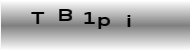1: (82, 10, 95, 25)
B: (57, 7, 73, 22)
T: (29, 9, 45, 24)
i: (126, 13, 131, 28)
p: (97, 15, 111, 31)
